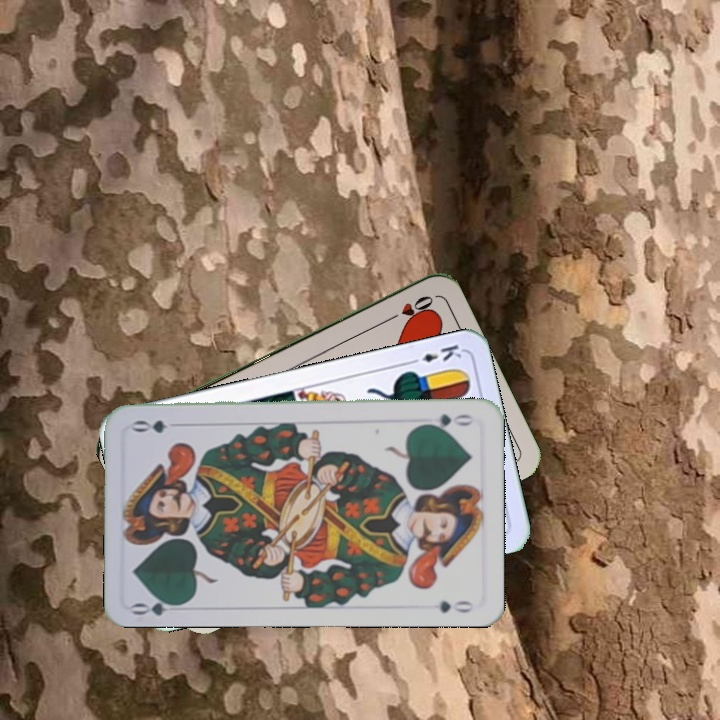EK: (405, 340, 464, 367)
GO: (129, 591, 188, 618), (419, 409, 477, 432)
HO: (382, 291, 436, 325)
